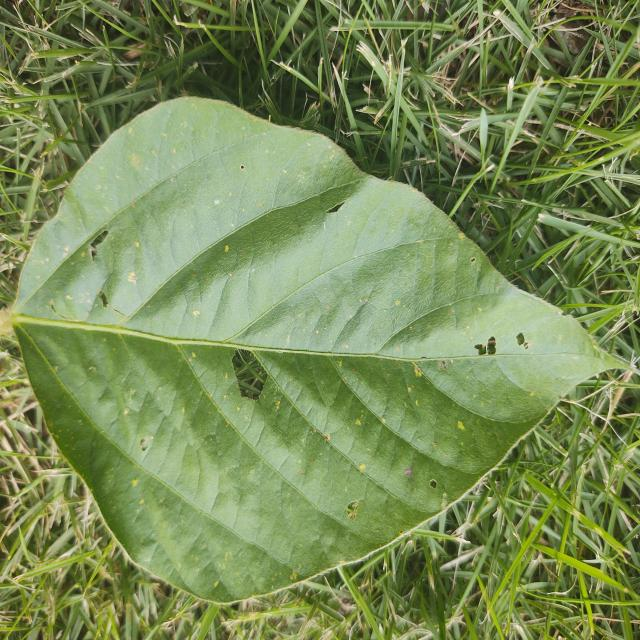Soybean: (11, 97, 624, 604)
downey_mildew: (209, 356, 418, 581), (46, 98, 287, 234), (362, 298, 512, 487), (108, 475, 301, 604), (13, 328, 141, 485), (273, 221, 425, 337), (109, 362, 218, 517), (356, 181, 466, 334), (418, 199, 525, 342), (159, 152, 266, 273), (429, 286, 611, 356), (325, 346, 431, 465), (235, 363, 332, 471), (18, 219, 123, 316), (423, 393, 530, 486), (434, 351, 560, 422), (353, 253, 424, 354), (257, 338, 364, 403), (370, 306, 459, 366), (217, 451, 270, 529)
